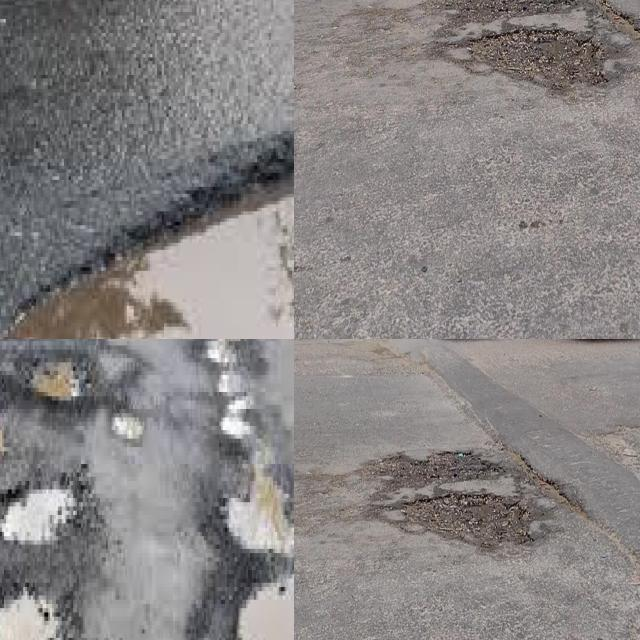Pothole: (2, 173, 294, 339), (467, 33, 608, 92), (395, 490, 536, 549), (377, 447, 502, 494), (229, 468, 287, 553), (210, 339, 252, 451), (238, 579, 294, 640), (449, 0, 574, 27)
